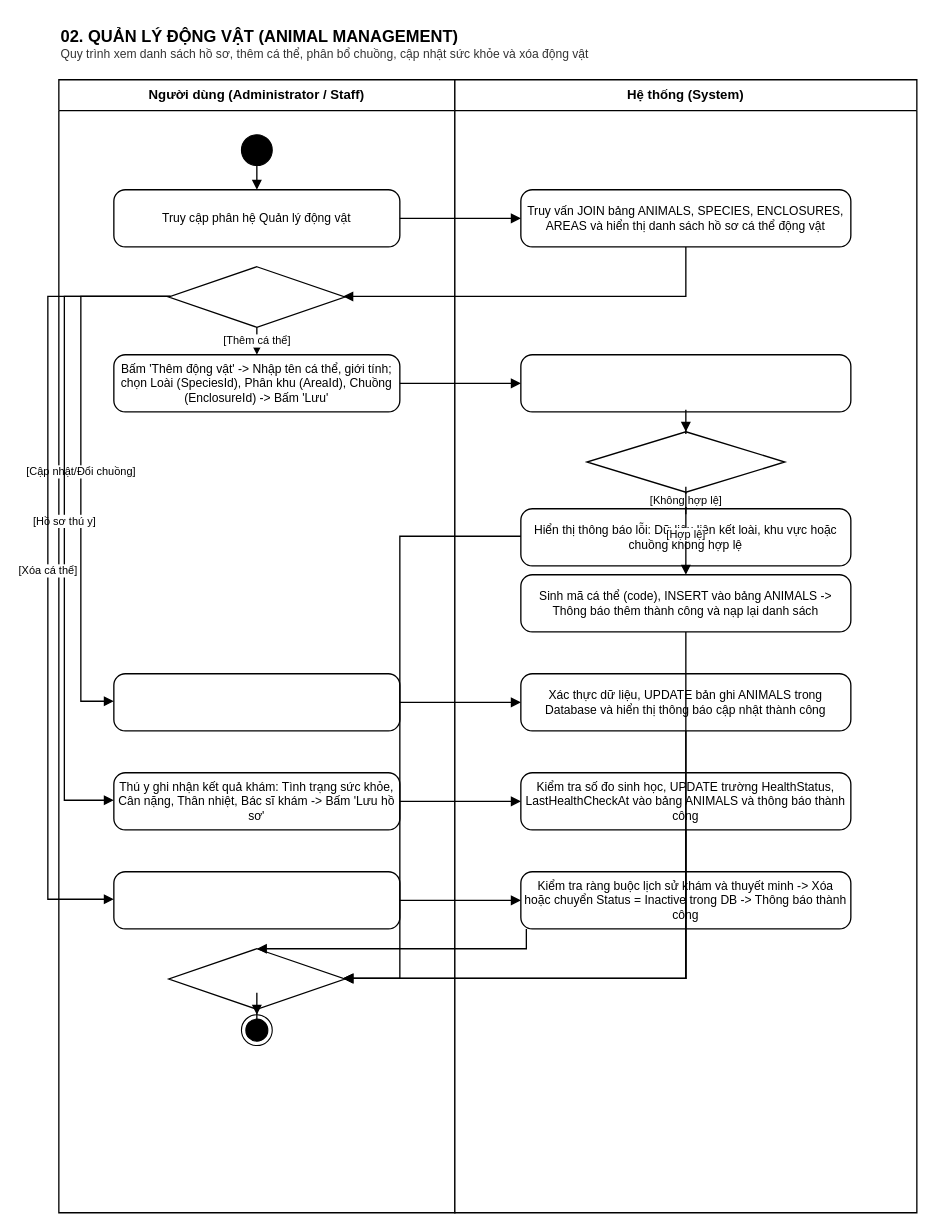
The diagram is 937 pixels wide and 1232 high, and some of its shapes have lost their labels. Here are the shapes that lost their labels. From the top down, the centre of each, then its label:
the point at 256,296: Chọn nghiệp vụ quản lý?
the point at 685,383: Kiểm tra tính tồn tại của Species, Area, Enclosure trong cơ sở dữ liệu
the point at 685,461: Khóa ngoại hợp lệ?
the point at 256,702: Chọn cá thể, chỉnh sửa thông tin hoặc chọn chuồng nuôi mới -> Bấm 'Cập nhật'
the point at 256,900: Chọn cá thể, bấm 'Xóa' và xác nhận trên hộp thoại
the point at 256,978: Hợp nhất
